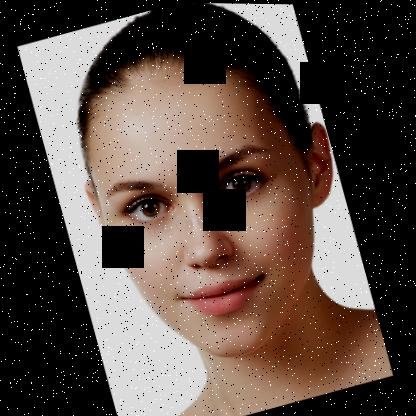Female: (52, 11, 380, 386)
